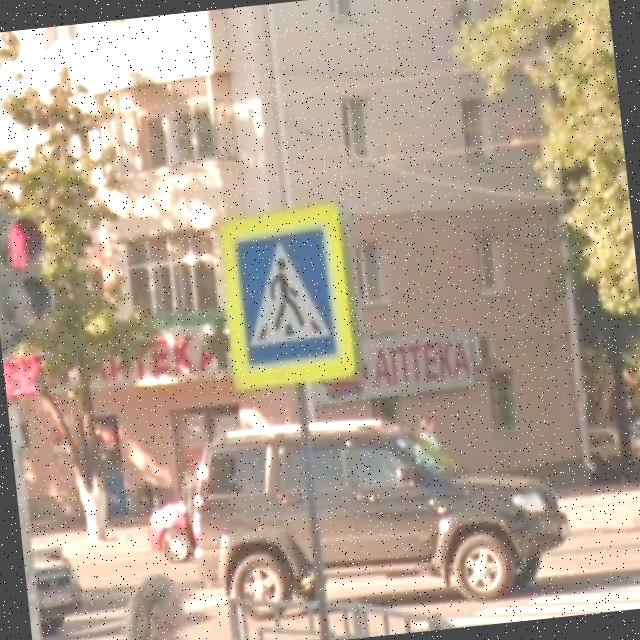Przejscie dla pieszych: (210, 203, 356, 395)
